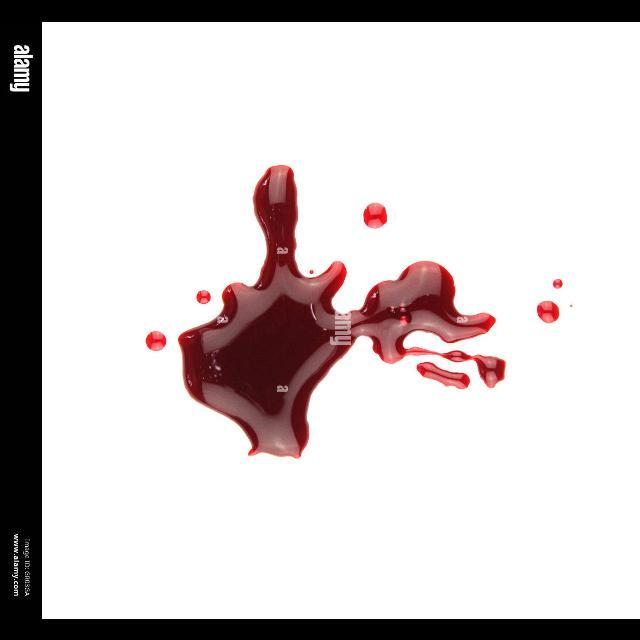blood: (178, 164, 506, 458), (416, 360, 470, 388), (363, 201, 387, 228), (537, 300, 559, 323), (145, 330, 166, 350), (196, 289, 211, 303)
